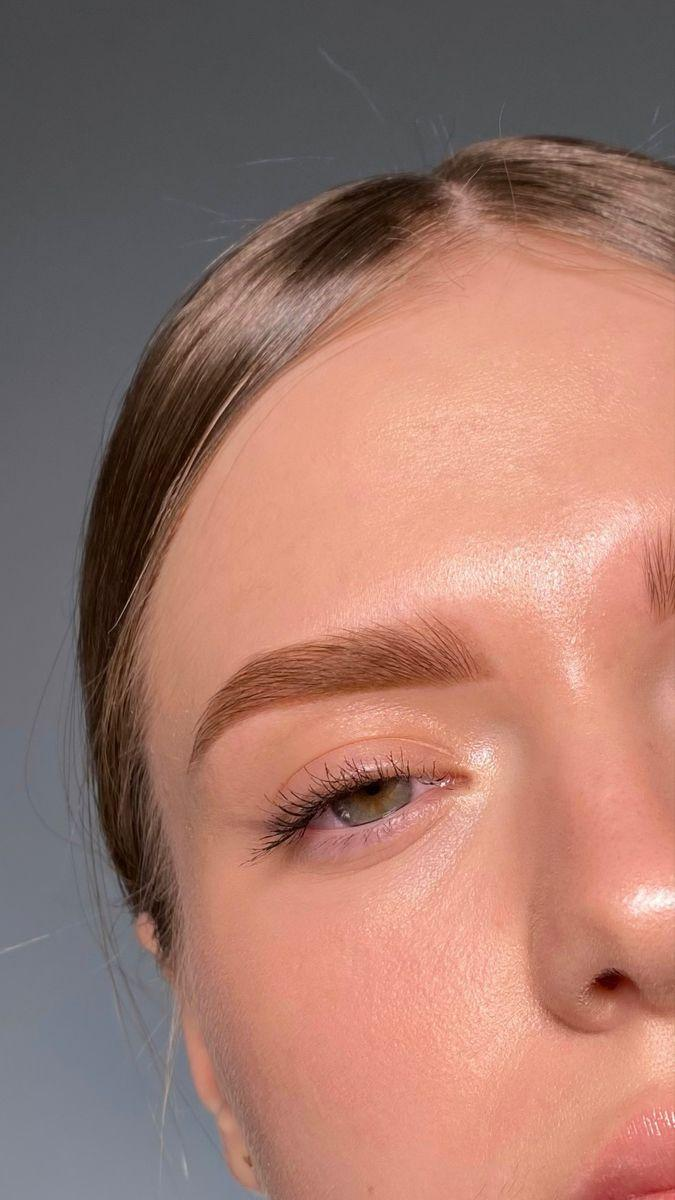Oily-Skin: (494, 771, 675, 984), (381, 503, 654, 642), (458, 1018, 672, 1142)
